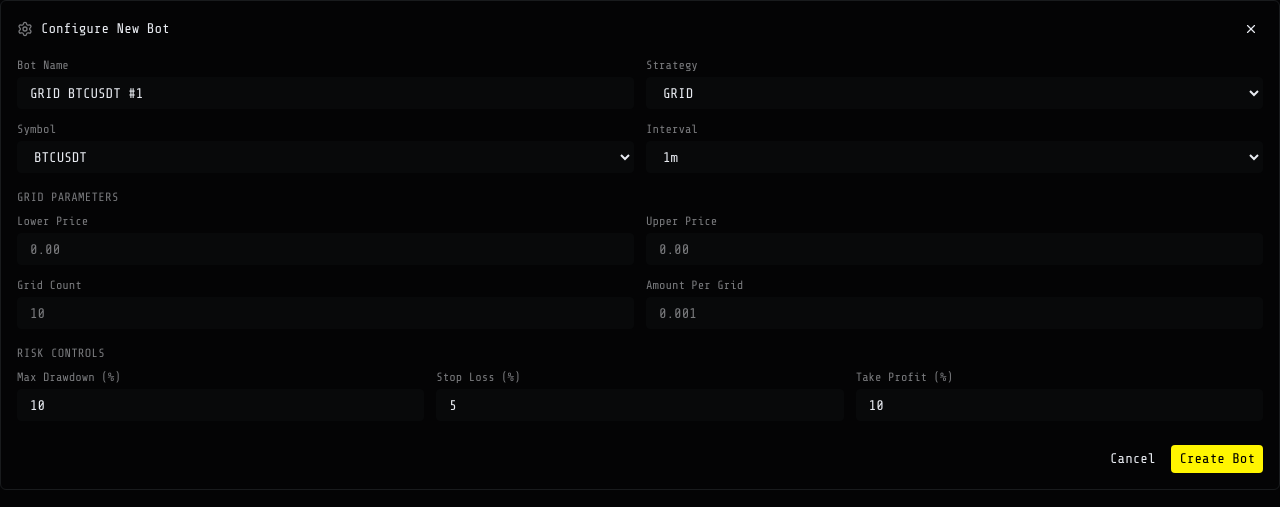
Test: BotConfigForm › switches to MACD parameters when MACD strategy is selected
Select "MACD" in the dropdown labelled "Strategy": (954, 93) [646,77,1263,109]
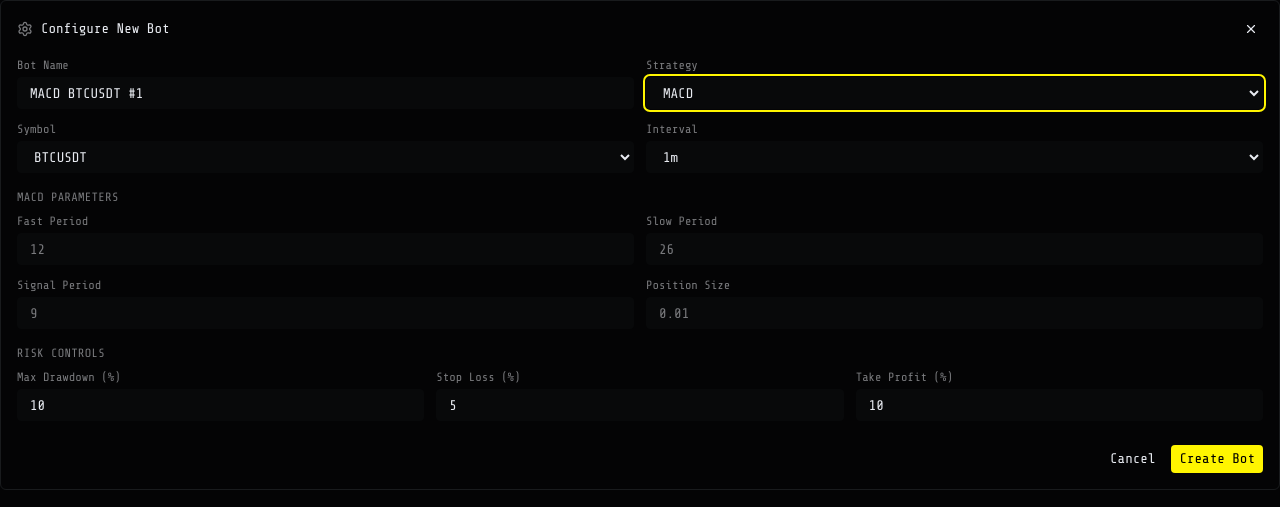
Check: the number field labelled "Fast Period" is shown, box [17,233,634,265]
Check: the number field labelled "Slow Period" is shown, box [646,233,1263,265]
Check: the number field labelled "Signal Period" is shown, box [17,297,634,329]
